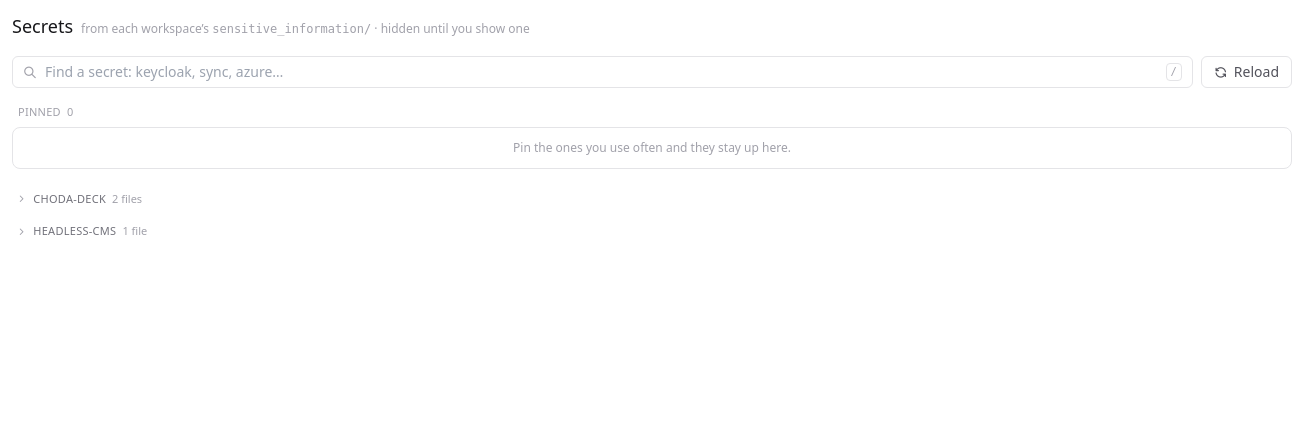
SecretsView › shows a refusal instead of swallowing it
Click the button "choda-deck 2 files" at x=70, y=198, box 12,184 -> 1292,213
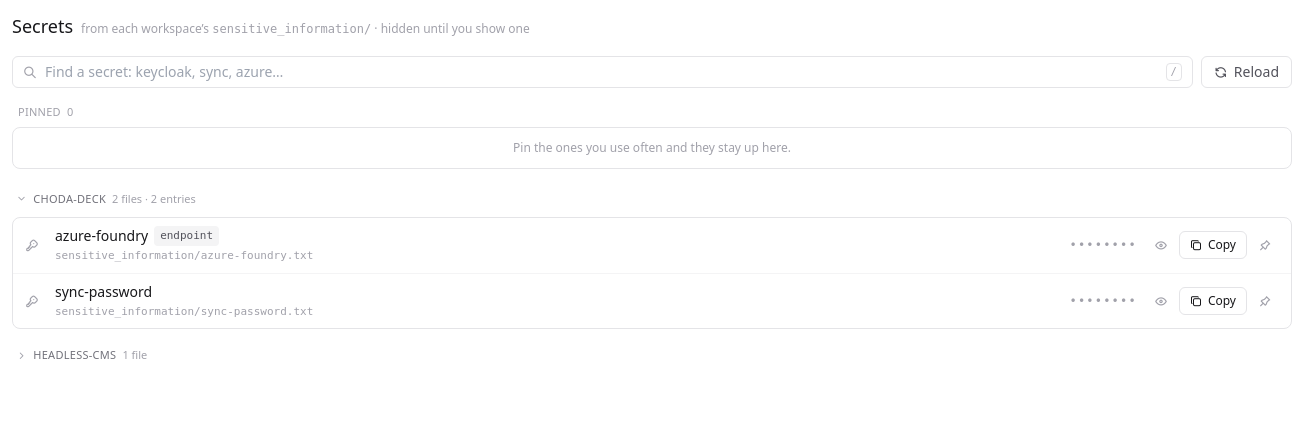
Click the button with aria-label "Copy sync-password" at x=1213, y=301, box 1179,287 -> 1247,315
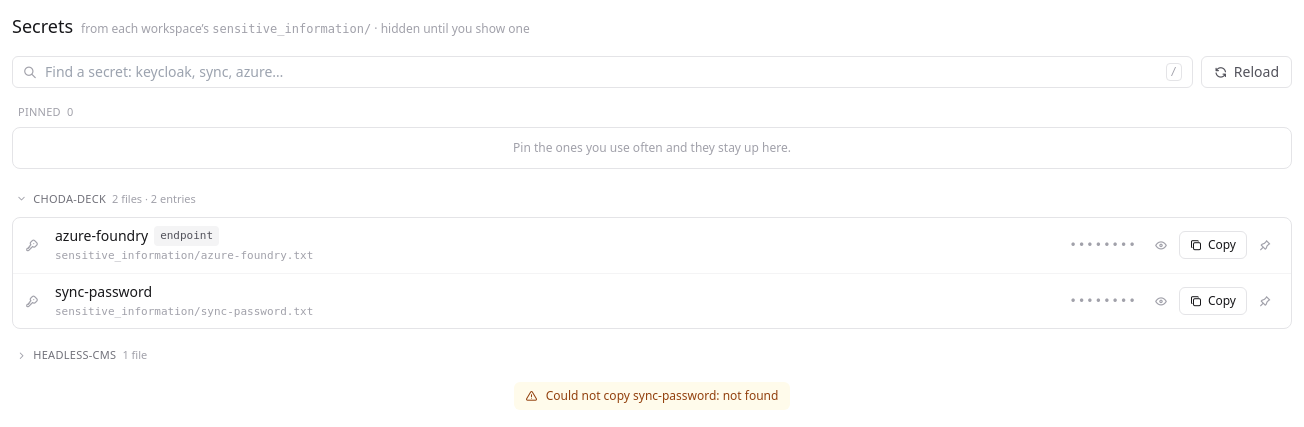
Result: the text "Could not copy sync-password: not found" is shown at 514,382 -> 790,410
